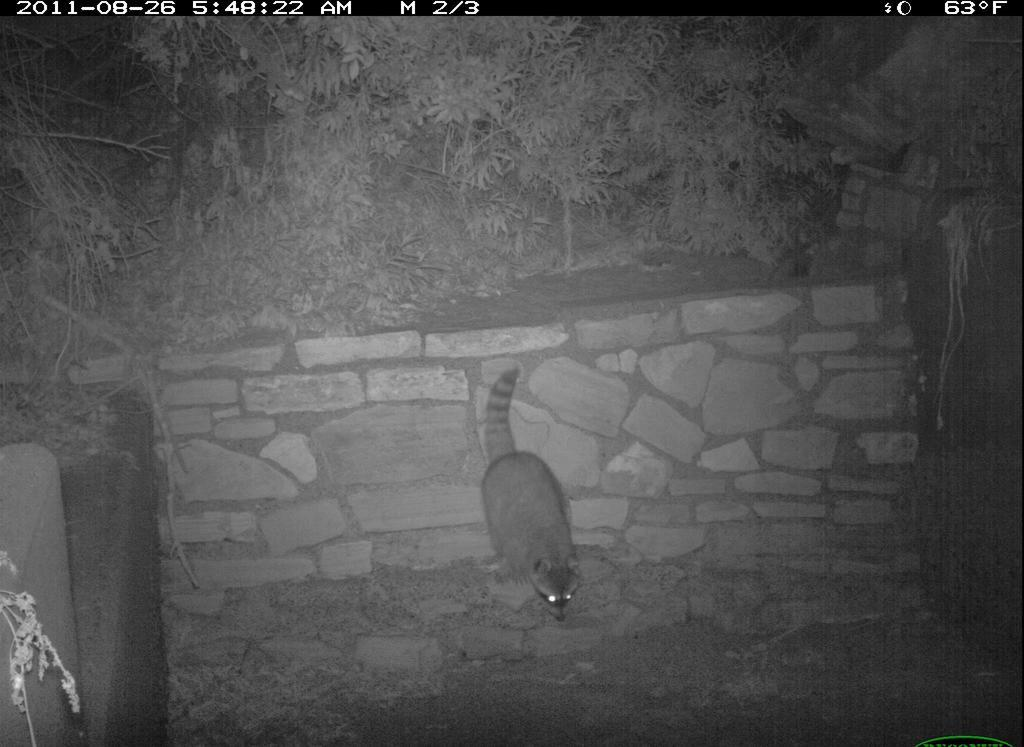raccoon: (465, 358, 587, 625)
